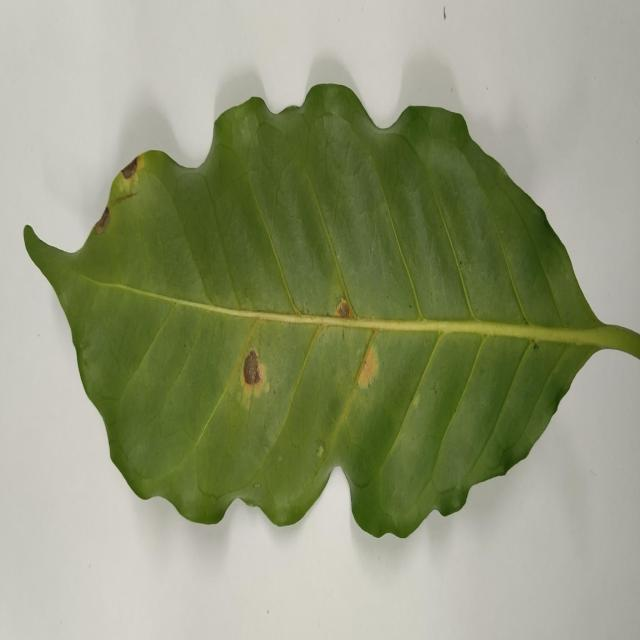Enfermedad-Mancha-de-hierro: (22, 84, 640, 541)
